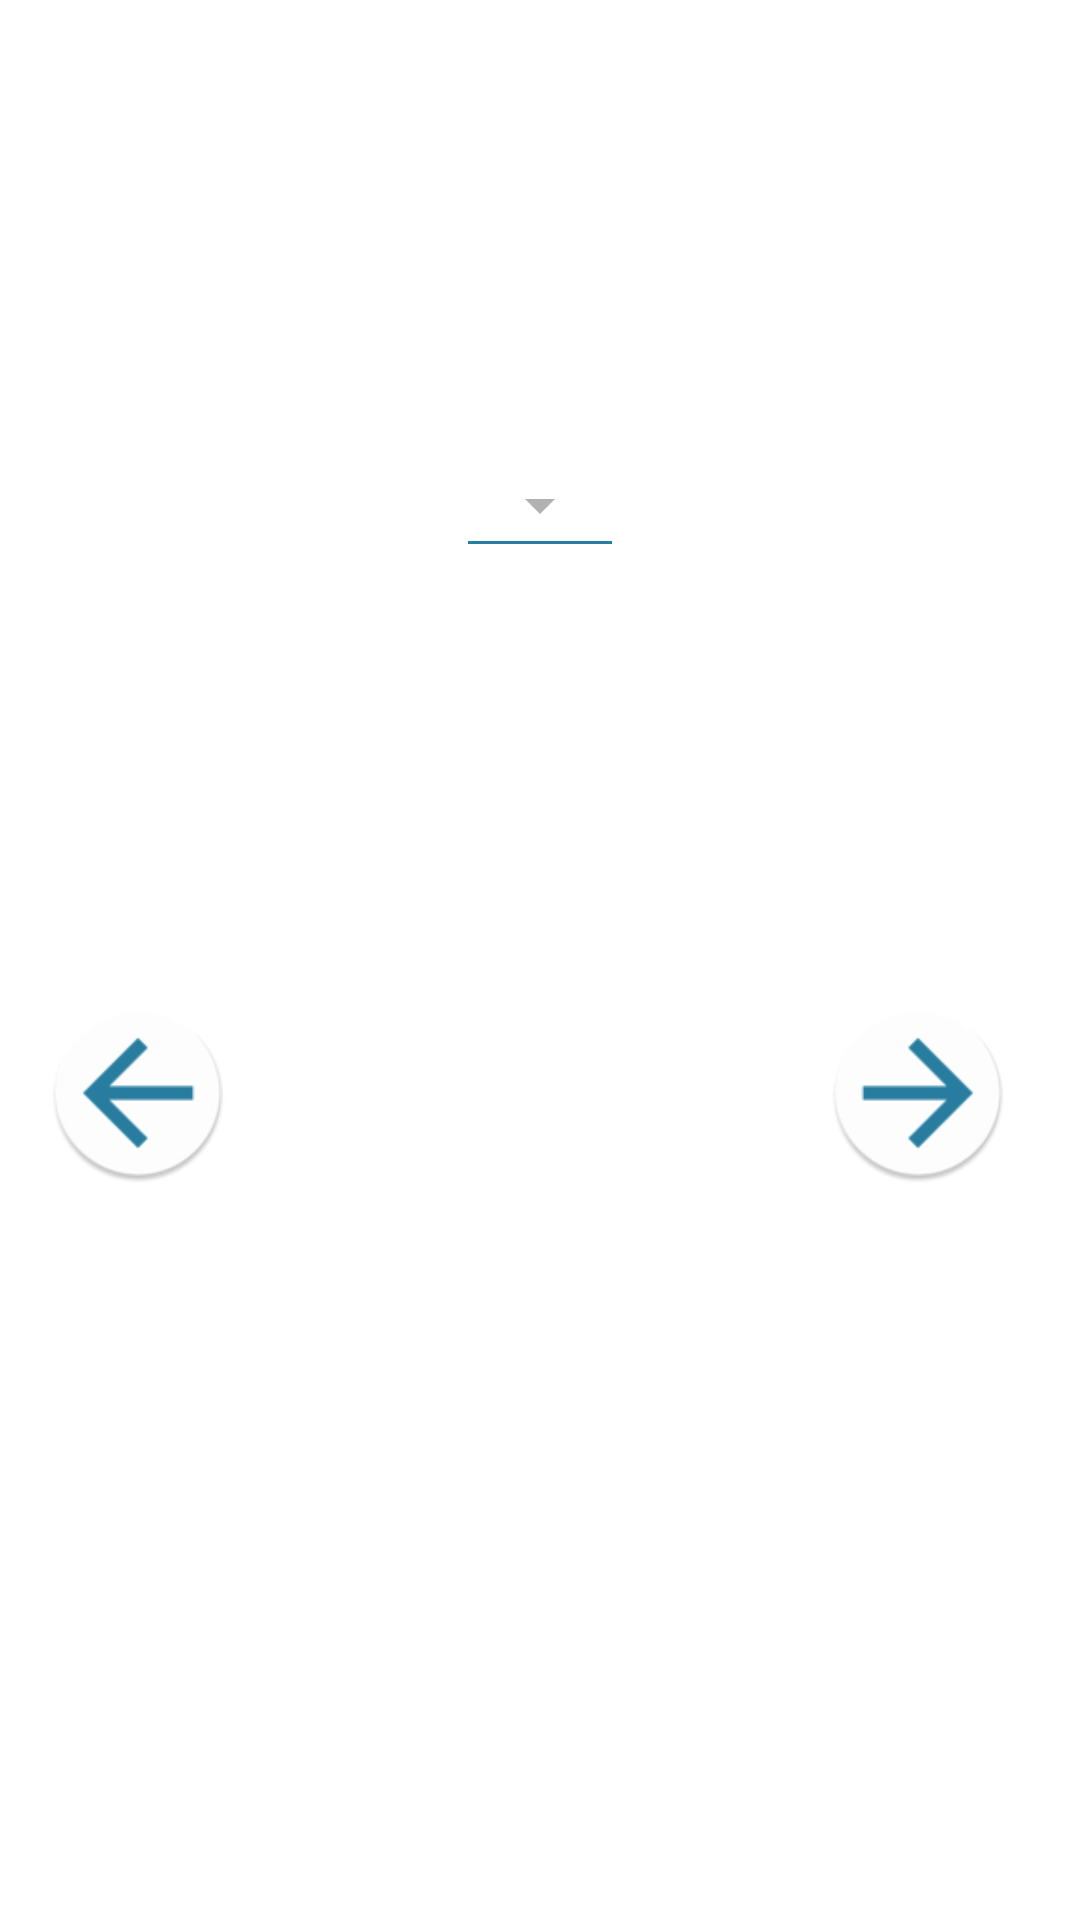

Where to tap for icons on this 1080 × 1920 app screen, as (x=x, y=y):
back arrow: (x=139, y=1109)
next arrow: (x=919, y=1109)
